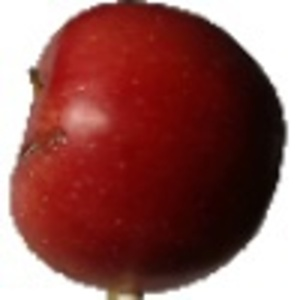maçã braeburn: (7, 1, 288, 294)
